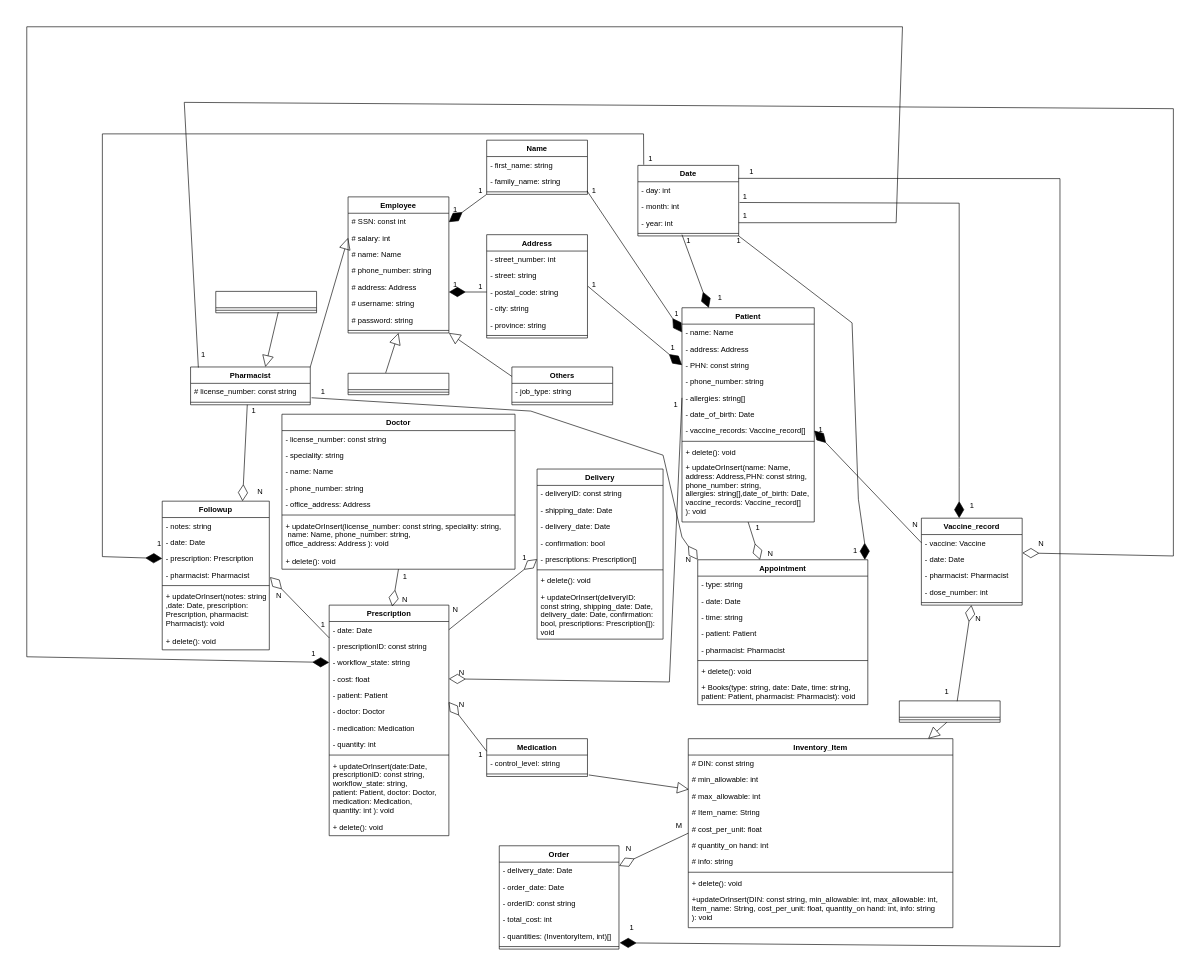
Image size: 1201x974. Some labels were removed from this diagram. Here are the shapes that lost their labels. From the top down, the centre of each, then its label:
At pixel 266 302: "Manager".
At pixel 398 384: "Assistant/Technician".
At pixel 949 711: "Vaccine".
